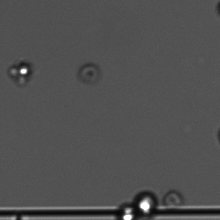Dead Cell: (77, 63, 101, 81), (162, 189, 183, 207)
Living Cell: (134, 191, 157, 216), (13, 61, 31, 80)
